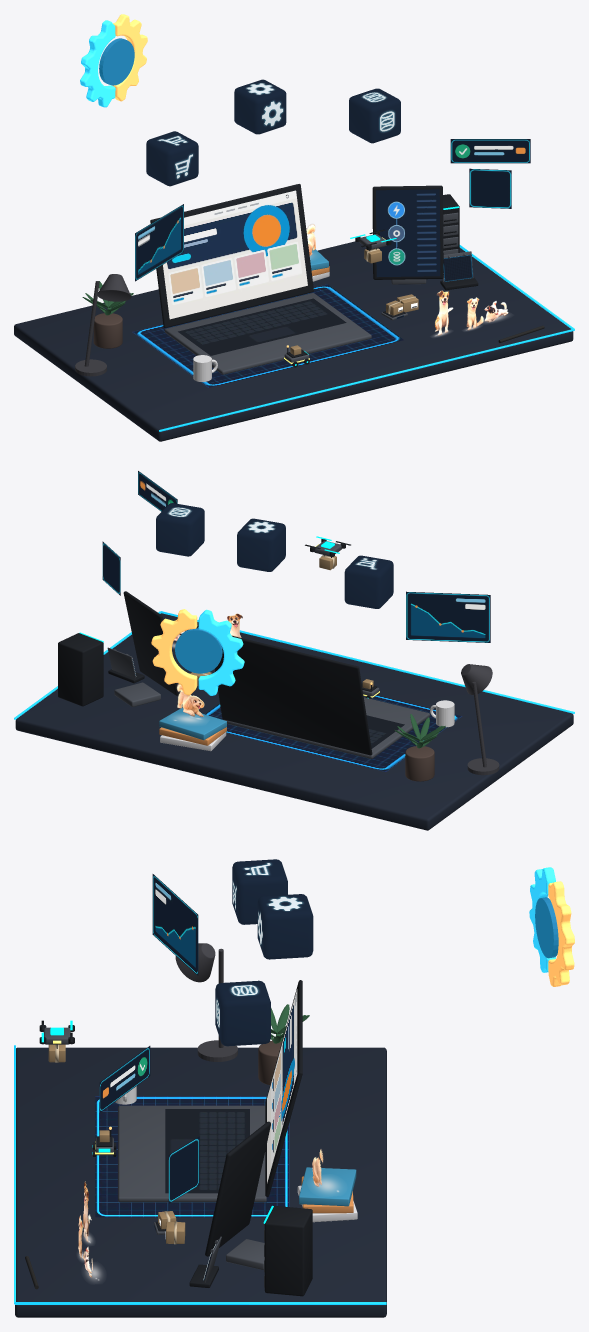
3 renders of one model, top to bottom at view 1: azimuth 30°, elevation 25°; view 2: azimuth 150°, elevation 25°; view 3: azimuth 270°, elevation 25°, orthographic. The views are drawn at different scales.
Visible parts, largest first — view 1: desk, laptop_screen, tablet_screen, laptop_base, desk_mat, laptop_keys, Cube.004, cube_cart, cube_gear, holo_chart, cube_db, holo_order (+10 smaller); view 2: desk, Cube.004, holo_chart, desk_mat, rack_frame, cube_cart, cube_db, cube_gear, tablet, laptop_base, logo_left_mesh, logo_right_mesh (+13 smaller); view 3: desk, desk_mat, laptop_base, laptop_keys, rack_frame, tablet, cube_gear, cube_db, holo_chart, laptop_screen, cube_cart, book_2 (+11 smaller).
Part boxes in pixels (bbox=[...]): desk: bbox=[14, 241, 573, 441]; laptop_screen: bbox=[163, 190, 307, 319]; tablet_screen: bbox=[376, 189, 440, 277]; laptop_base: bbox=[164, 293, 371, 374]; desk_mat: bbox=[132, 284, 403, 387]; laptop_keys: bbox=[178, 298, 346, 355]; Cube.004: bbox=[150, 184, 313, 327]; cube_cart: bbox=[146, 131, 198, 186]; cube_gear: bbox=[234, 79, 286, 134]; holo_chart: bbox=[135, 204, 183, 281]; cube_db: bbox=[349, 88, 400, 143]; holo_order: bbox=[450, 139, 530, 163]; desk: bbox=[15, 613, 573, 830]; Cube.004: bbox=[214, 635, 372, 755]; holo_chart: bbox=[406, 591, 490, 642]; desk_mat: bbox=[205, 695, 462, 771]; rack_frame: bbox=[58, 633, 103, 706]; cube_cart: bbox=[344, 555, 393, 608]; cube_db: bbox=[156, 503, 204, 556]; cube_gear: bbox=[237, 518, 285, 571]; tablet: bbox=[123, 591, 178, 695]; laptop_base: bbox=[224, 697, 429, 758]; logo_left_mesh: bbox=[198, 609, 244, 695]; logo_right_mesh: bbox=[151, 609, 197, 695]; desk: bbox=[15, 1047, 386, 1317]; desk_mat: bbox=[95, 1096, 289, 1217]; laptop_base: bbox=[118, 1105, 266, 1202]; laptop_keys: bbox=[165, 1109, 249, 1193]; rack_frame: bbox=[264, 1206, 312, 1296]; tablet: bbox=[205, 1121, 270, 1256]; cube_gear: bbox=[257, 894, 313, 959]; cube_db: bbox=[215, 980, 270, 1046]; holo_chart: bbox=[152, 874, 198, 975]; laptop_screen: bbox=[267, 989, 297, 1183]; cube_cart: bbox=[232, 859, 287, 924]; book_2: bbox=[299, 1167, 356, 1206].
Bounding box in the file's own units: 3.63 × 1.9 × 3.32.
57 materials, 32 textured.
